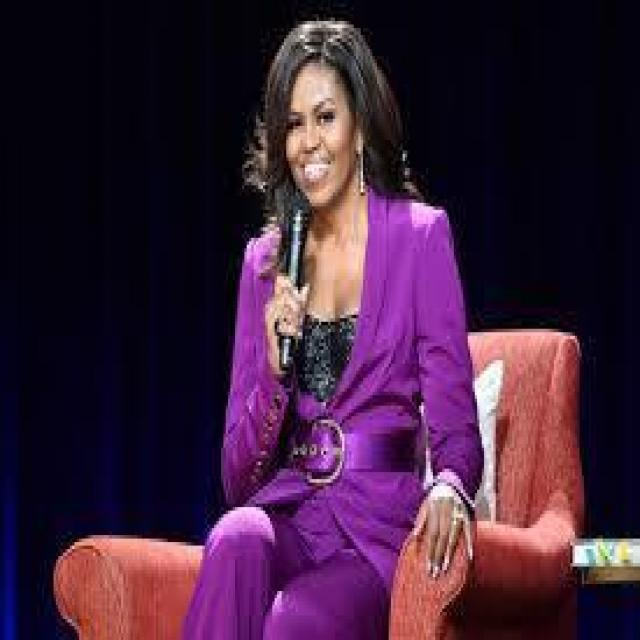person: (226, 18, 465, 636)
